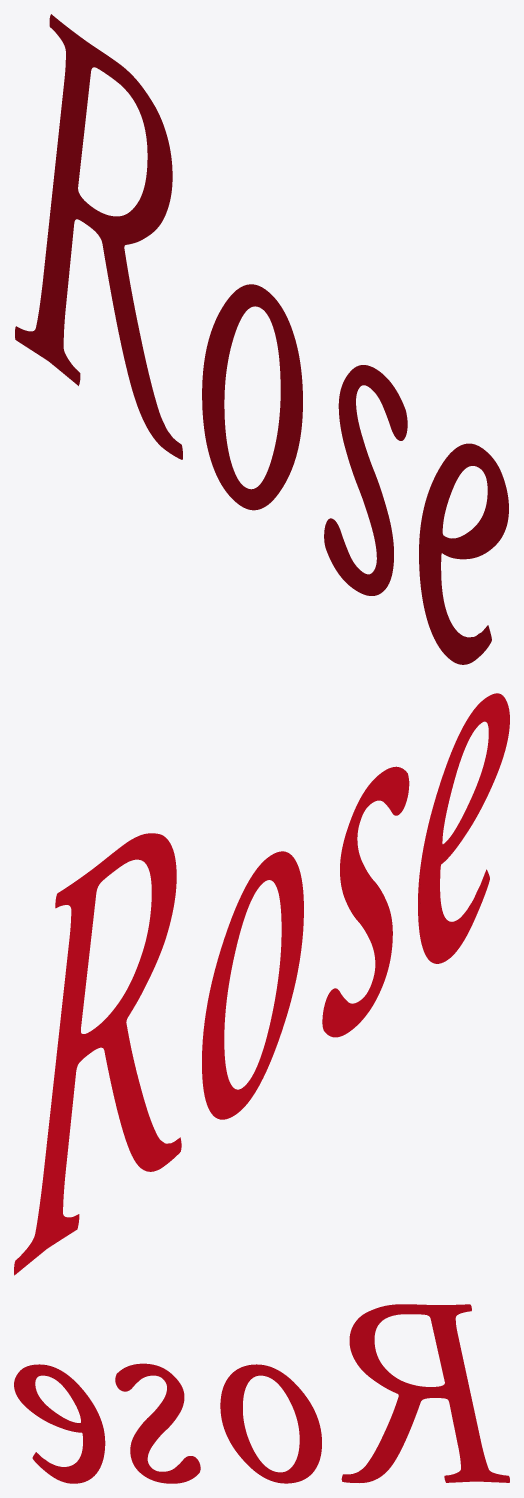
File: nametag3.glb
3 views of the same model, one above another, from view 1: azimuth 30°, elevation 25°; view 2: azimuth 150°, elevation 25°; view 3: azimuth 270°, elevation 25° (orthographic). The views are drawn at different scales.
Parts seen in each view (by area): view 1: R, o, e, s; view 2: R, o, e, s; view 3: R, o, e, s.
Part boxes in pixels (bbox=[...]): R: bbox=[15, 14, 182, 459]; o: bbox=[202, 284, 302, 510]; e: bbox=[419, 443, 508, 664]; s: bbox=[324, 365, 407, 595]; R: bbox=[14, 833, 181, 1275]; o: bbox=[202, 851, 303, 1119]; e: bbox=[418, 693, 509, 963]; s: bbox=[322, 766, 409, 1037]; R: bbox=[341, 1304, 509, 1482]; o: bbox=[220, 1364, 321, 1483]; e: bbox=[14, 1364, 105, 1483]; s: bbox=[115, 1363, 200, 1483].
Size of the model in its own units: 0.7739 by 72.42 by 182.
4 materials, 4 textured.
